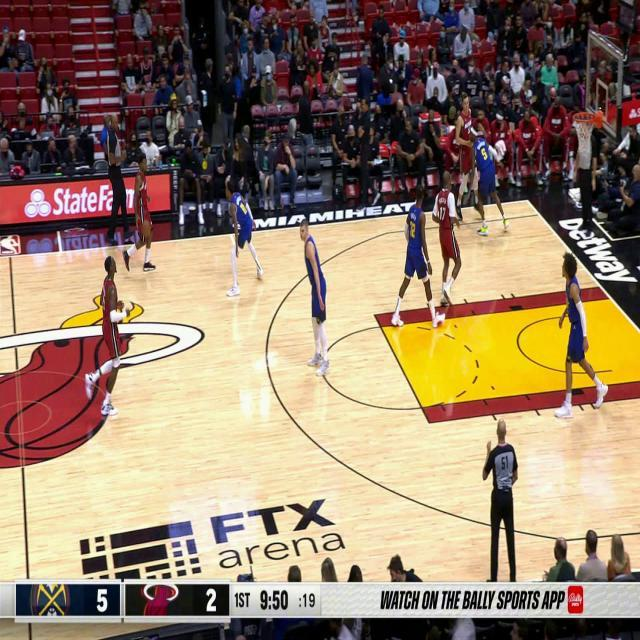rim: (141, 220, 151, 238)
